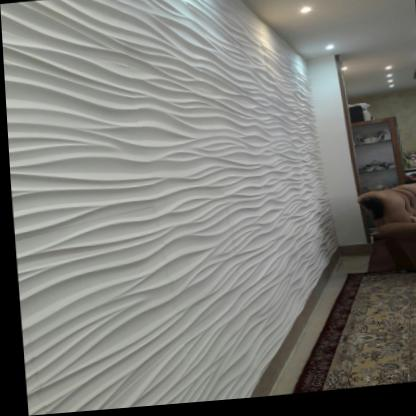Futech tiles: (54, 24, 318, 308)
